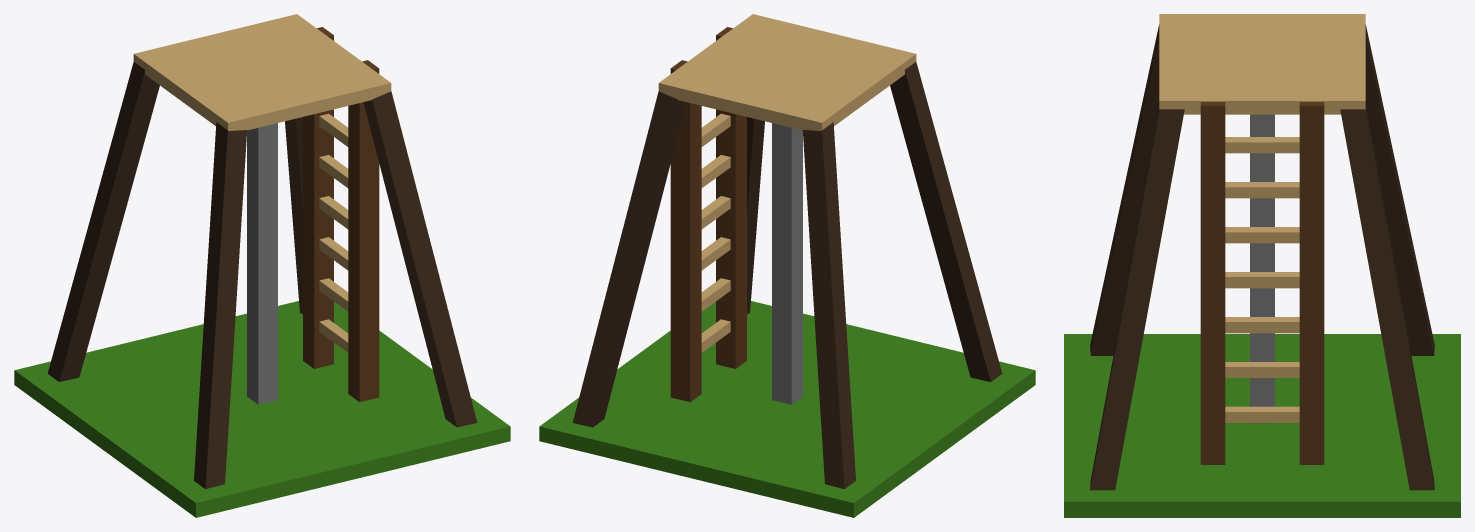
Rendered from lvl3.glb.
The picture shows the model from 3 angles, left to right: view 1: azimuth 30°, elevation 25°; view 2: azimuth 150°, elevation 25°; view 3: azimuth 270°, elevation 25°; orthographic projection. The views are drawn at different scales.
Parts seen in each view (by area): view 1: Plane.002; view 2: Plane.002; view 3: Plane.002.
Boxes of the visible parts, x1=… form: Plane.002: x1=14, y1=14, x2=510, y2=517; Plane.002: x1=539, y1=14, x2=1035, y2=517; Plane.002: x1=1064, y1=14, x2=1460, y2=517.
Size of the model in its own units: 4 by 4.19 by 4.
